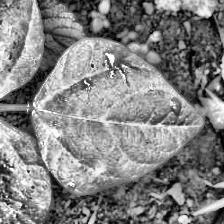Bean Rust: (33, 37, 208, 201), (0, 113, 49, 224), (0, 0, 44, 99)
